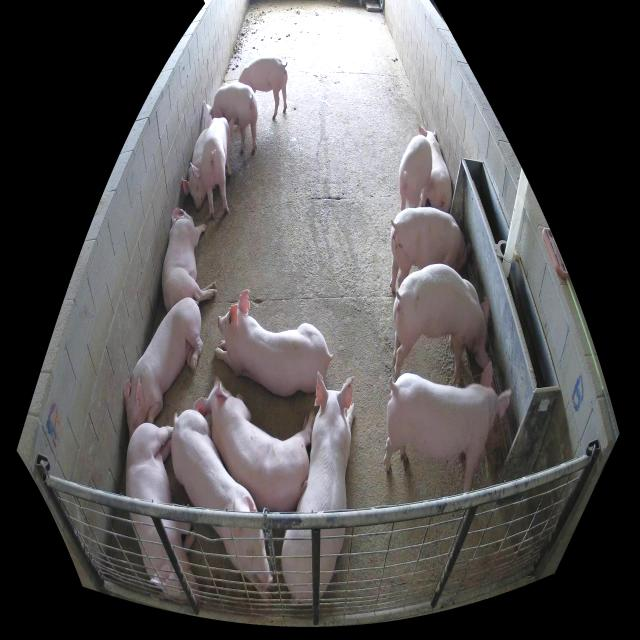pig: (170, 408, 273, 604), (383, 360, 511, 492), (284, 372, 356, 606), (193, 374, 315, 511), (126, 423, 204, 605), (213, 288, 333, 394), (390, 263, 490, 385), (125, 299, 203, 438), (390, 207, 469, 295), (161, 206, 218, 314), (205, 83, 258, 156), (239, 55, 288, 121), (203, 118, 234, 220), (418, 121, 452, 214), (398, 133, 433, 209), (182, 128, 207, 209)
